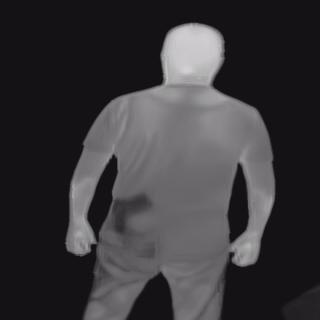Gun: (110, 194, 153, 236)
